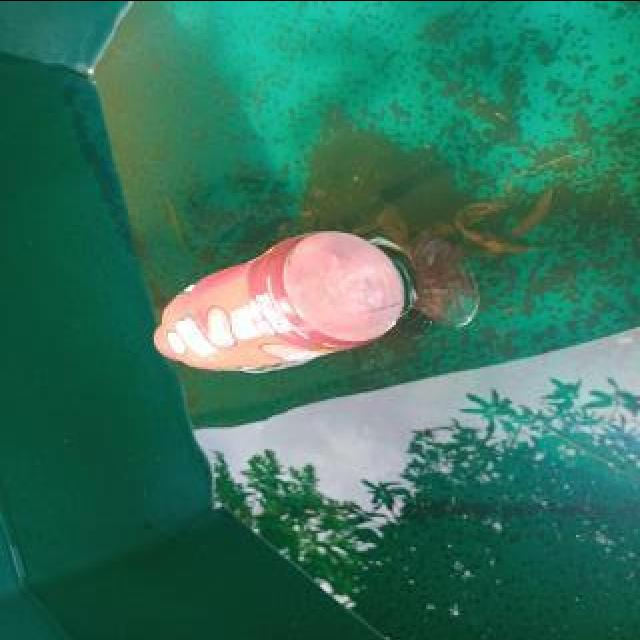Bottle: (150, 228, 410, 382)
